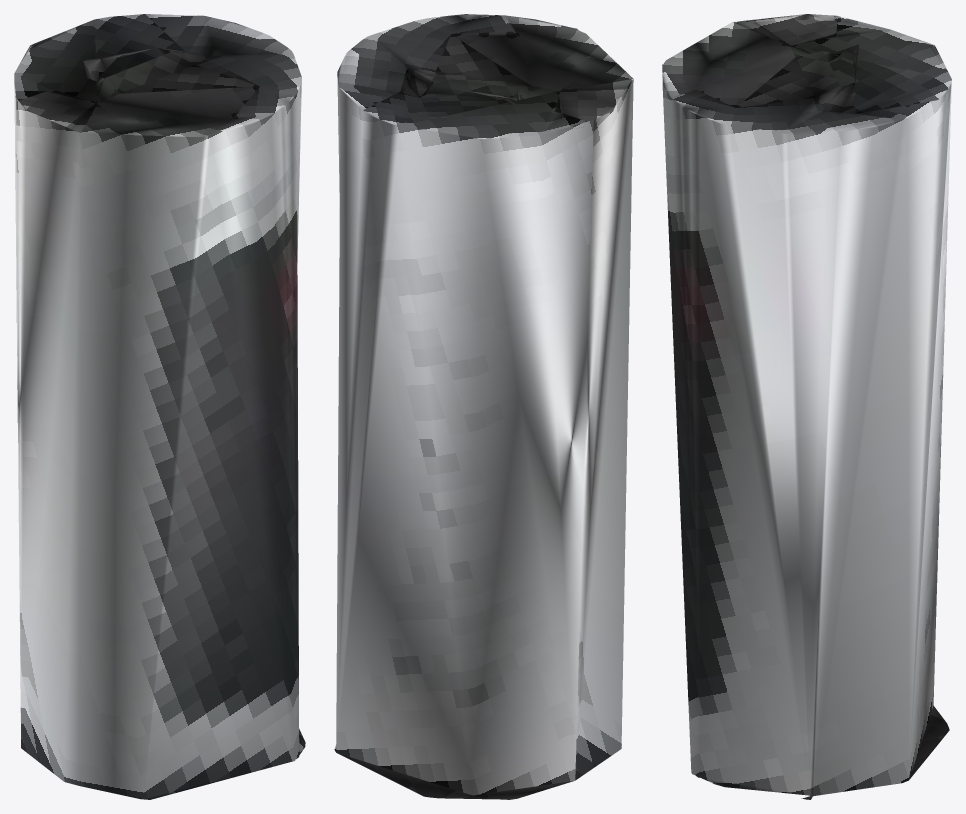
File: Logitech_Ultimate_Ears_Boom_Wireless_Speaker_Night_Black-low.glb
The picture shows the model from 3 angles, left to right: view 1: azimuth 30°, elevation 25°; view 2: azimuth 150°, elevation 25°; view 3: azimuth 270°, elevation 25°; orthographic projection.
Parts seen in each view (by area): view 1: Logitech_Ultimate_Ears_Boom_Wireless_Speaker_Night_Black; view 2: Logitech_Ultimate_Ears_Boom_Wireless_Speaker_Night_Black; view 3: Logitech_Ultimate_Ears_Boom_Wireless_Speaker_Night_Black.
Boxes of the visible parts, <box> form: Logitech_Ultimate_Ears_Boom_Wireless_Speaker_Night_Black: <box>14,14,305,799</box>; Logitech_Ultimate_Ears_Boom_Wireless_Speaker_Night_Black: <box>334,14,633,799</box>; Logitech_Ultimate_Ears_Boom_Wireless_Speaker_Night_Black: <box>662,14,951,799</box>.
Bounding box in the file's own units: 0.1056 × 0.2571 × 0.1007.
1 material, 1 textured.
